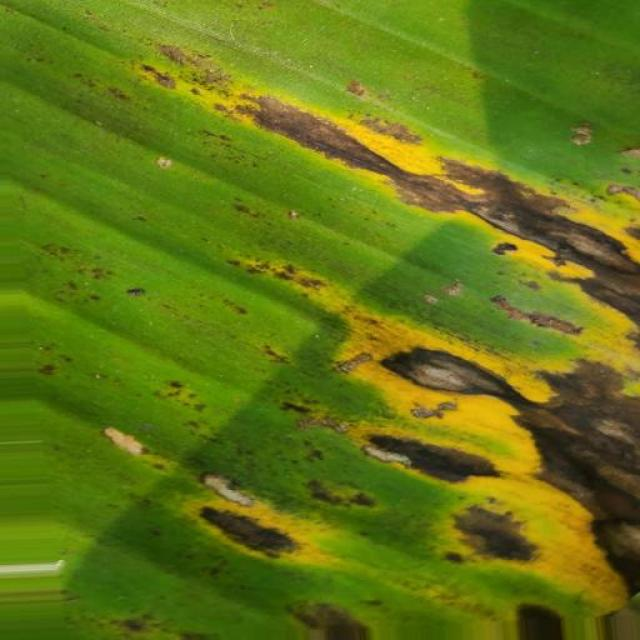Early_rust: (40, 29, 640, 640)
